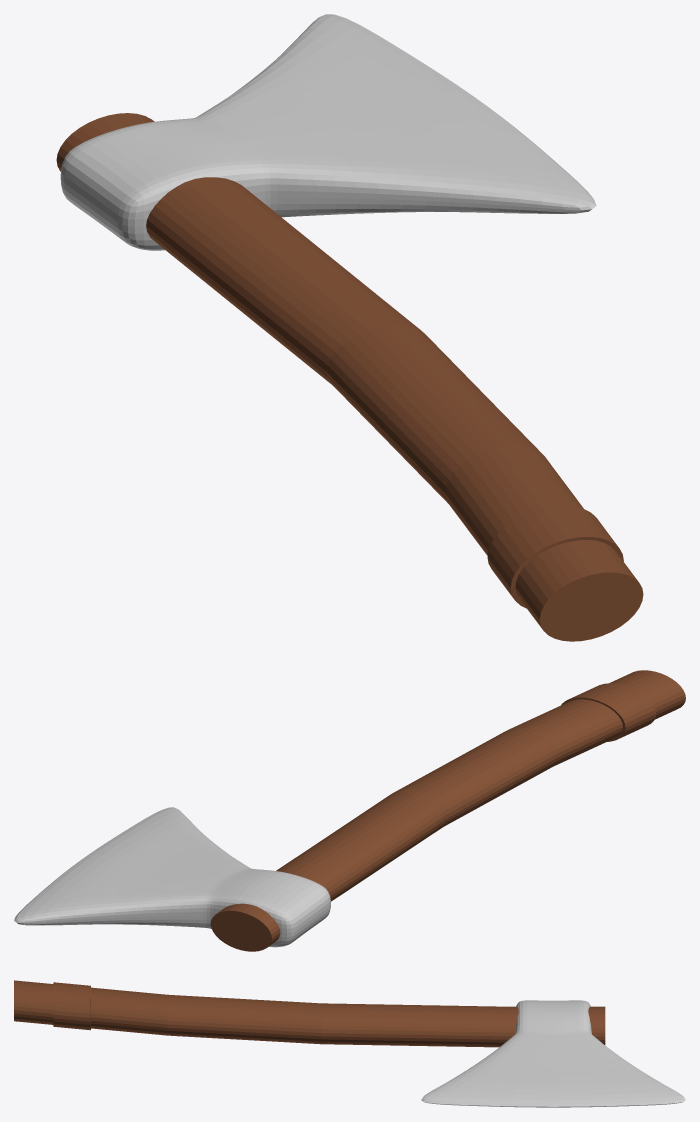
Rendered from Iron Axe.fbx.
The picture shows the model from 3 angles, top to bottom: view 1: azimuth 30°, elevation 25°; view 2: azimuth 150°, elevation 25°; view 3: azimuth 270°, elevation 25°; orthographic projection. The views are drawn at different scales.
Visible parts, largest first — view 1: Cylinder, Cube; view 2: Cylinder, Cube; view 3: Cylinder, Cube.
Boxes of the visible parts, x1,y1,x2,y2 form: Cylinder: (56, 113, 643, 641); Cube: (60, 14, 596, 250); Cylinder: (210, 670, 685, 951); Cube: (14, 807, 330, 947); Cylinder: (14, 980, 605, 1047); Cube: (421, 1000, 685, 1107).
Size of the model in its own units: 729 by 107 by 1744.
